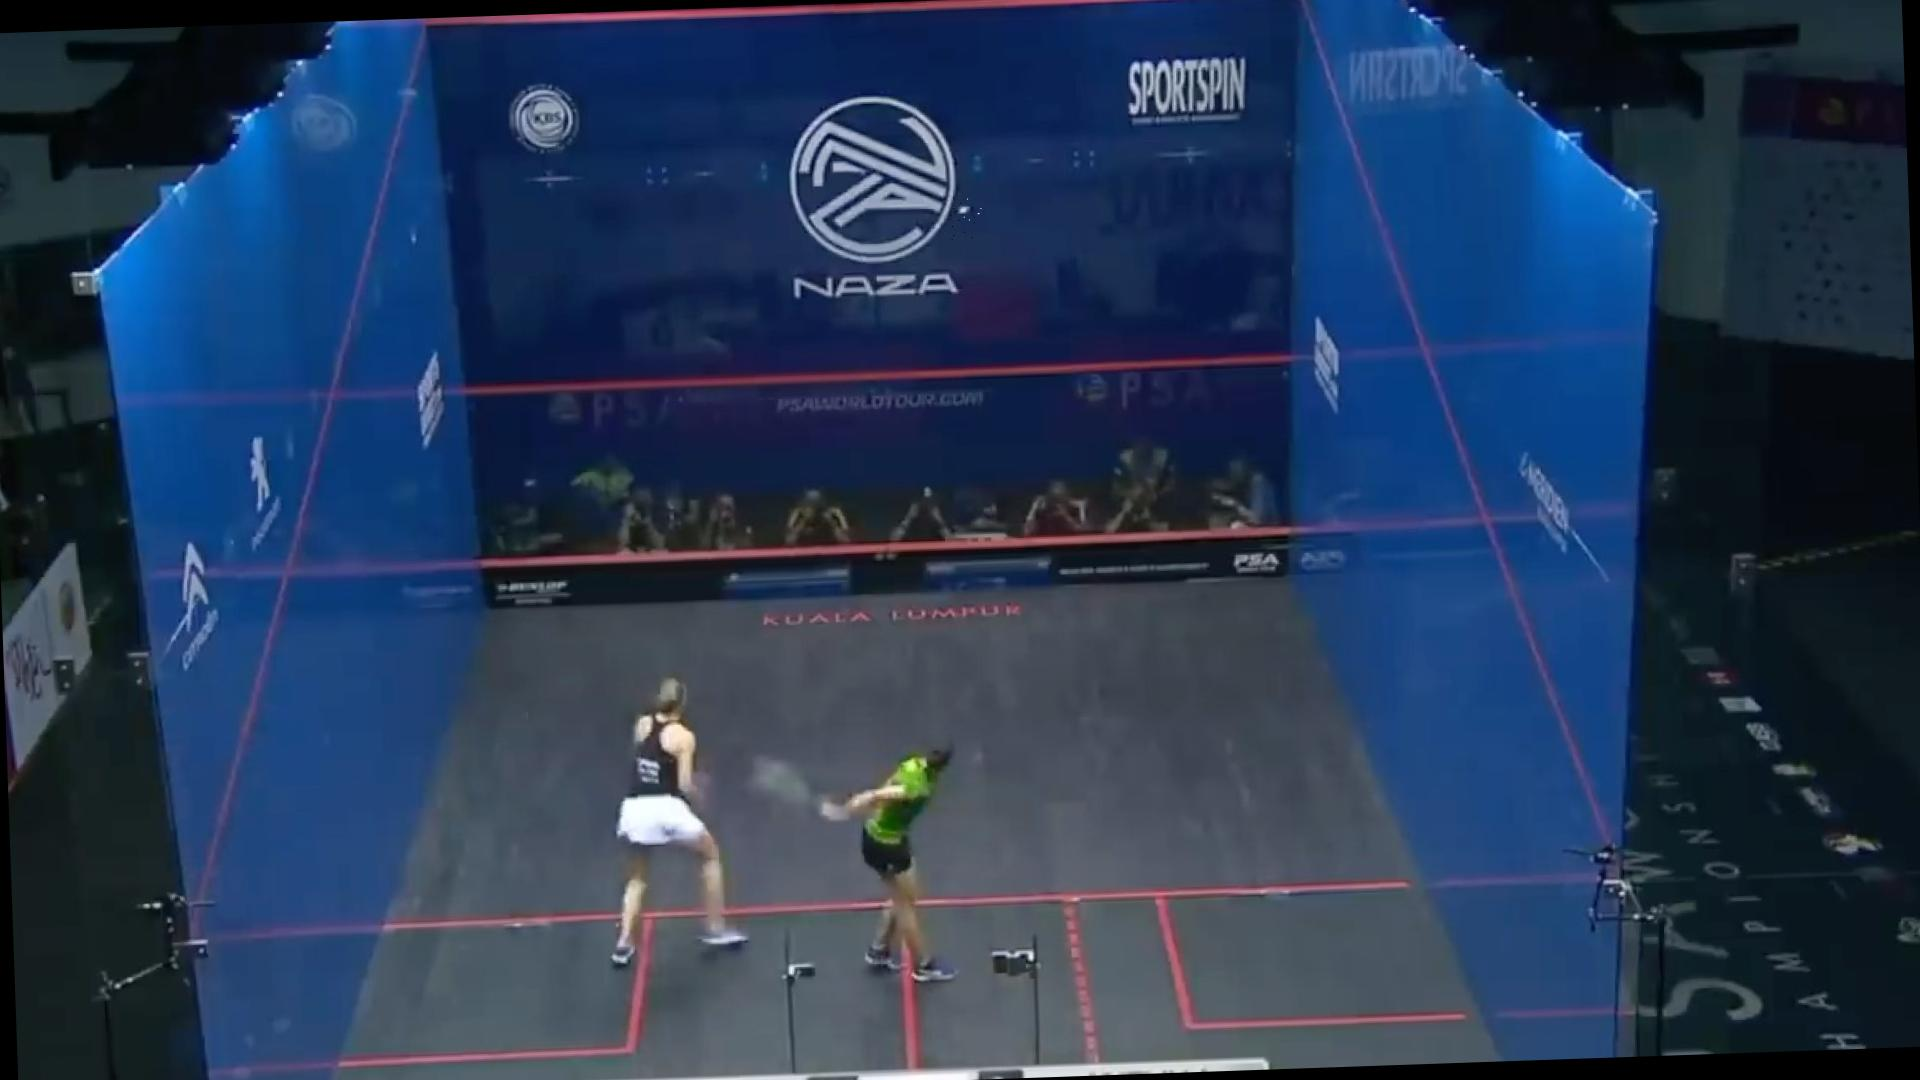Squash-Ball: (949, 196, 984, 241)
